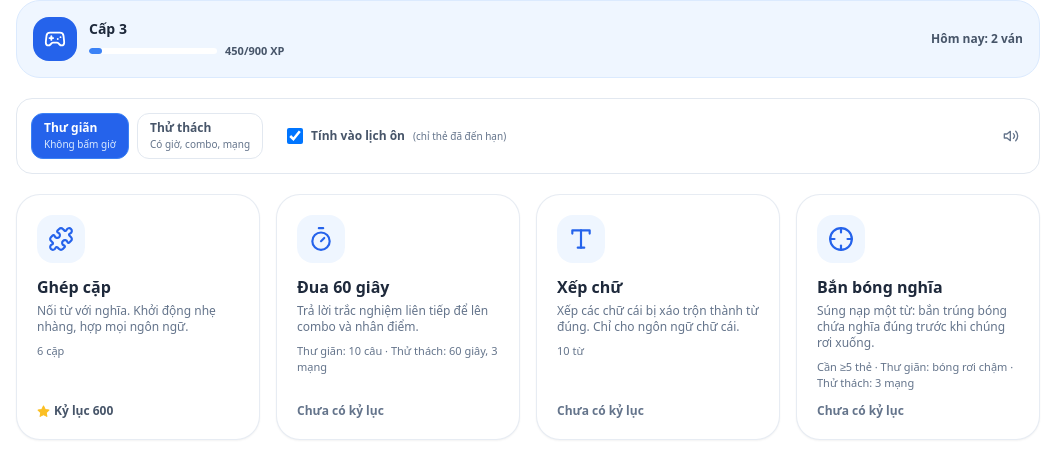
GamesHub — màn chọn trò › hiện cấp độ, 3 trò và kỷ lục theo chế độ đang chọn
The image size is (1057, 457).
Expected: the text "Cấp 3" is shown, [89, 19, 127, 38]
Expected: the text "450/900 XP" is shown, [225, 43, 284, 59]
Click the radio button labelled "Thử thách Có giờ, combo, mạng".
click(200, 136)  # box [137, 113, 263, 159]
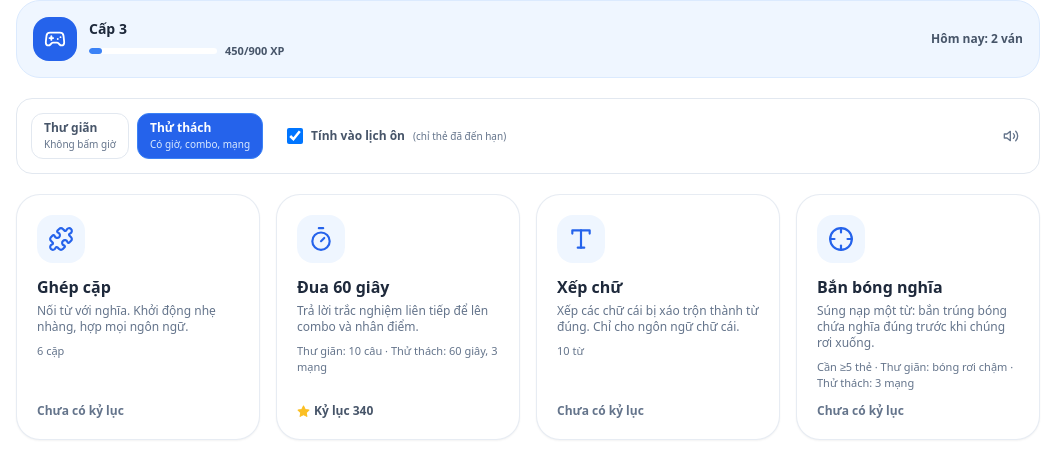
Expected: the element with test id "game-best-speed" reads "Kỷ lục 340", [297, 403, 373, 419]
Expected: the button with test id "game-card-match" shows "Chưa có kỷ lục", [16, 194, 260, 440]
